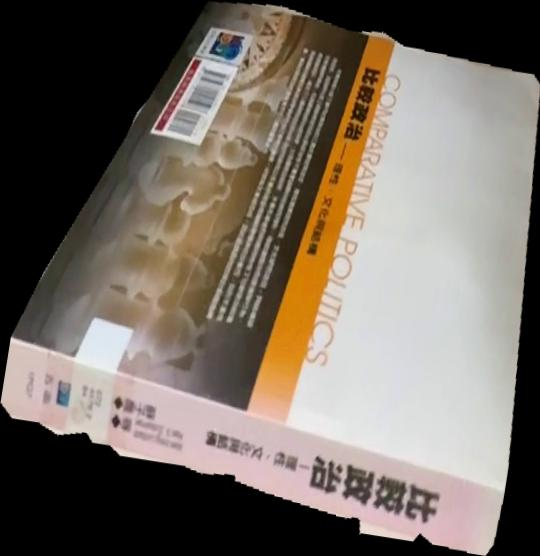flat: (1, 1, 540, 556)
